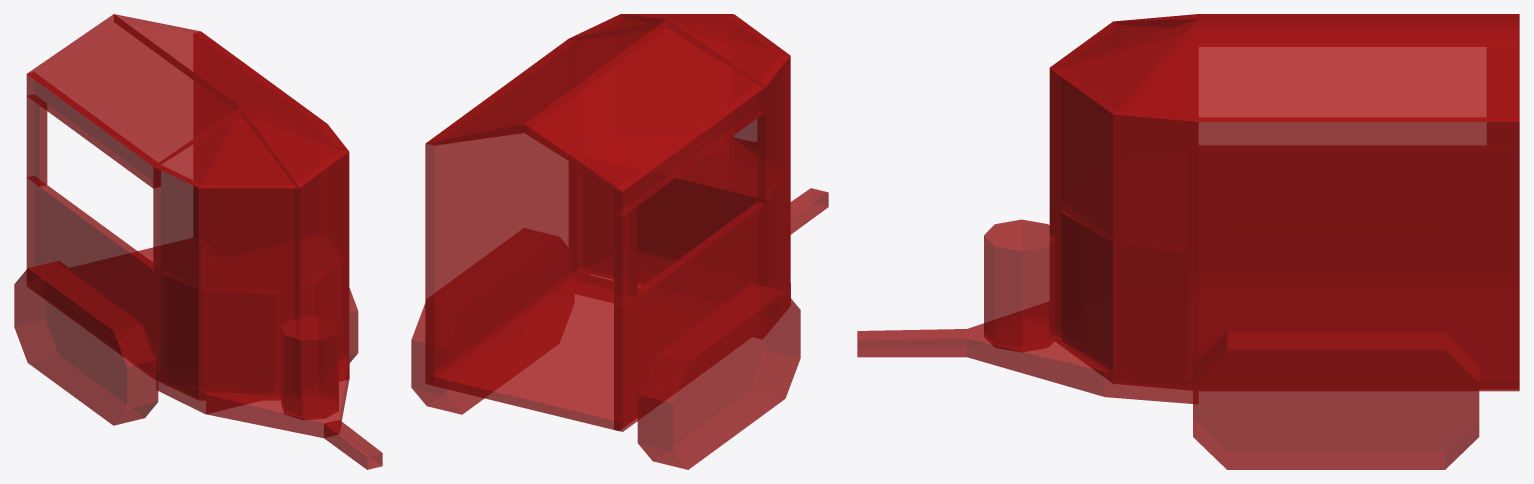
File: SM_Veh_Food_Trailer_01_Collision.fbx
3 renders of one model, left to right at view 1: azimuth 30°, elevation 25°; view 2: azimuth 150°, elevation 25°; view 3: azimuth 270°, elevation 25°, orthographic. The views are drawn at different scales.
Visible parts, largest first — view 1: SM_Veh_Food_Trailer_01_Collision; view 2: SM_Veh_Food_Trailer_01_Collision; view 3: SM_Veh_Food_Trailer_01_Collision.
Boxes of the visible parts, x1,y1,x2,y2 form: SM_Veh_Food_Trailer_01_Collision: [14, 14, 382, 469]; SM_Veh_Food_Trailer_01_Collision: [411, 14, 828, 469]; SM_Veh_Food_Trailer_01_Collision: [857, 14, 1519, 469].
Bounding box in the file's own units: 228 × 282 × 446.
